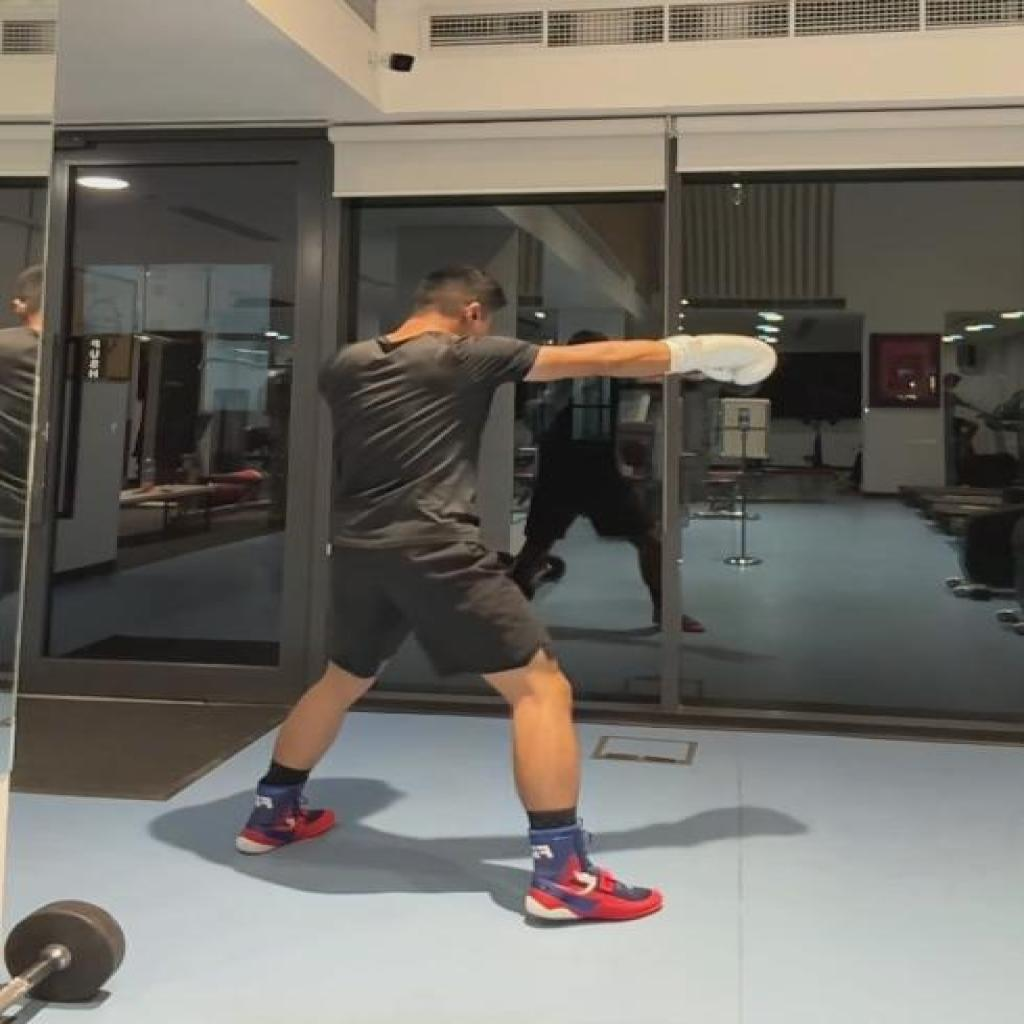jab: (234, 264, 784, 926)
